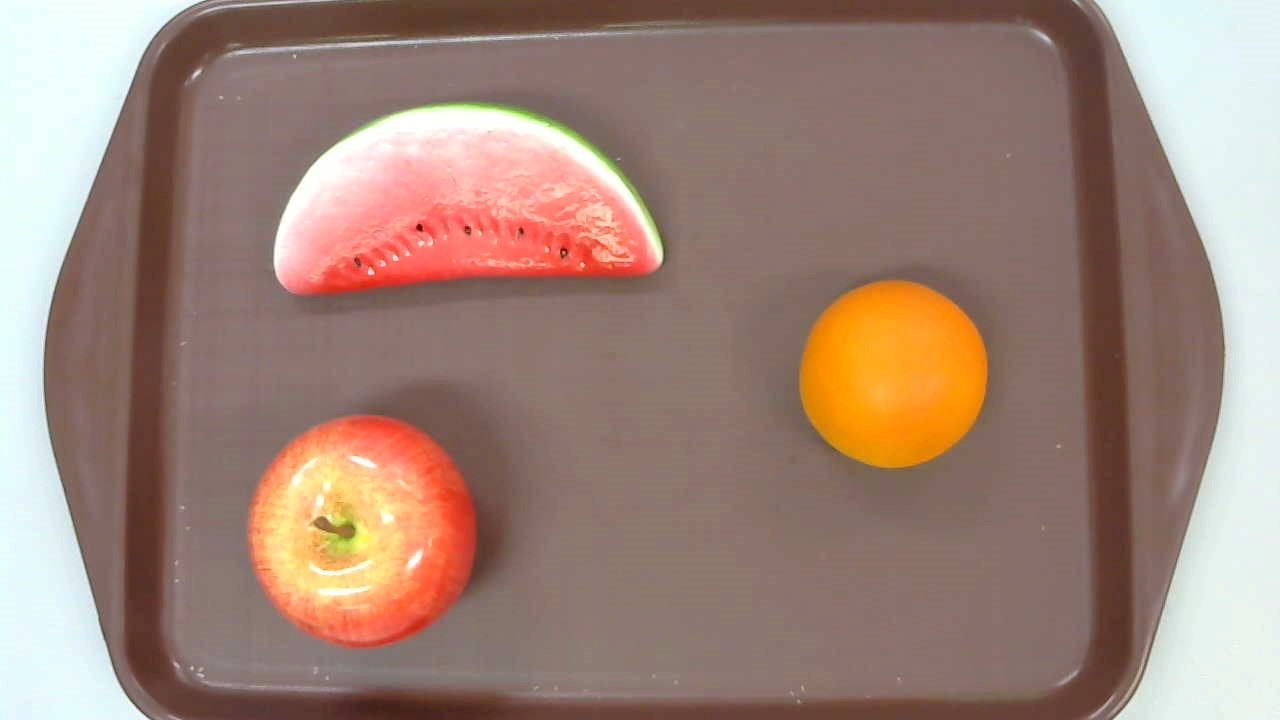bun: (797, 280, 988, 470)
red apple: (247, 413, 475, 652)
water melon: (271, 102, 664, 296)
